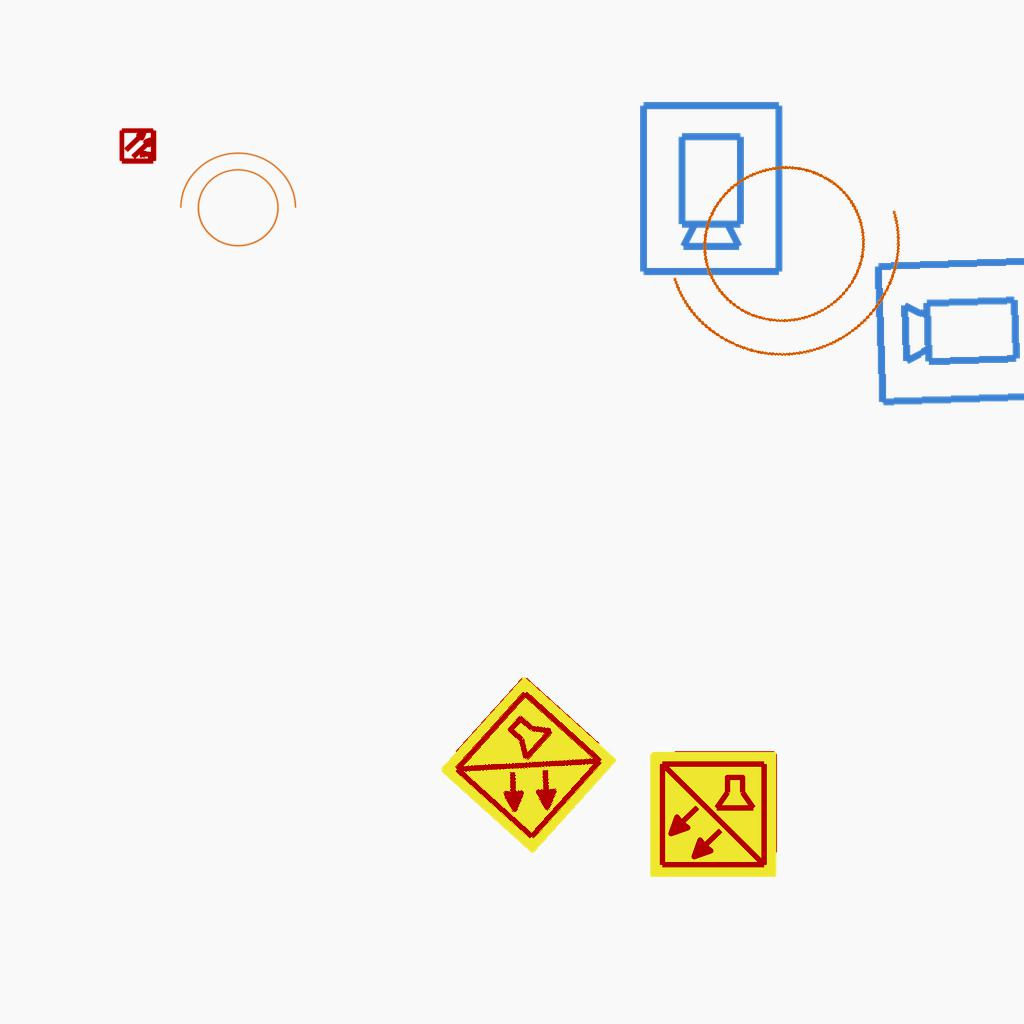KFO_Kamera_mit_Festobjektiv: (633, 97, 787, 279), (870, 249, 1024, 411)
OKW_Multisensormelder_(Kombination_optischer_Rauch-Kahlenmonoxid_Waerme-Melder): (434, 671, 622, 859), (647, 748, 779, 880)
OT_Multisensormelder_(Kombination_RMO_WMD): (111, 118, 167, 174)
Scheinwerfer_fuer_Alarmbeleuchtung: (633, 105, 953, 398), (169, 147, 301, 259)
